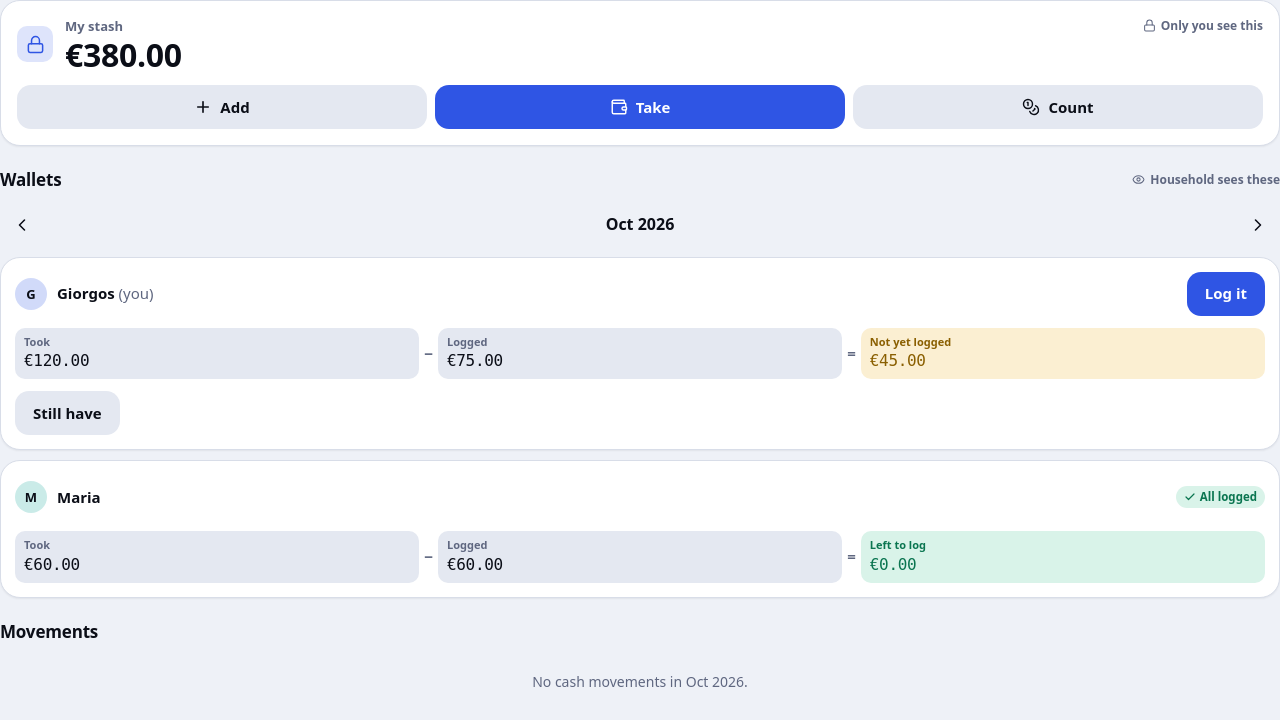
Test: a count that matches says so, and can still be saved
Click the button "Count": (1058, 107) [853,85,1263,129]
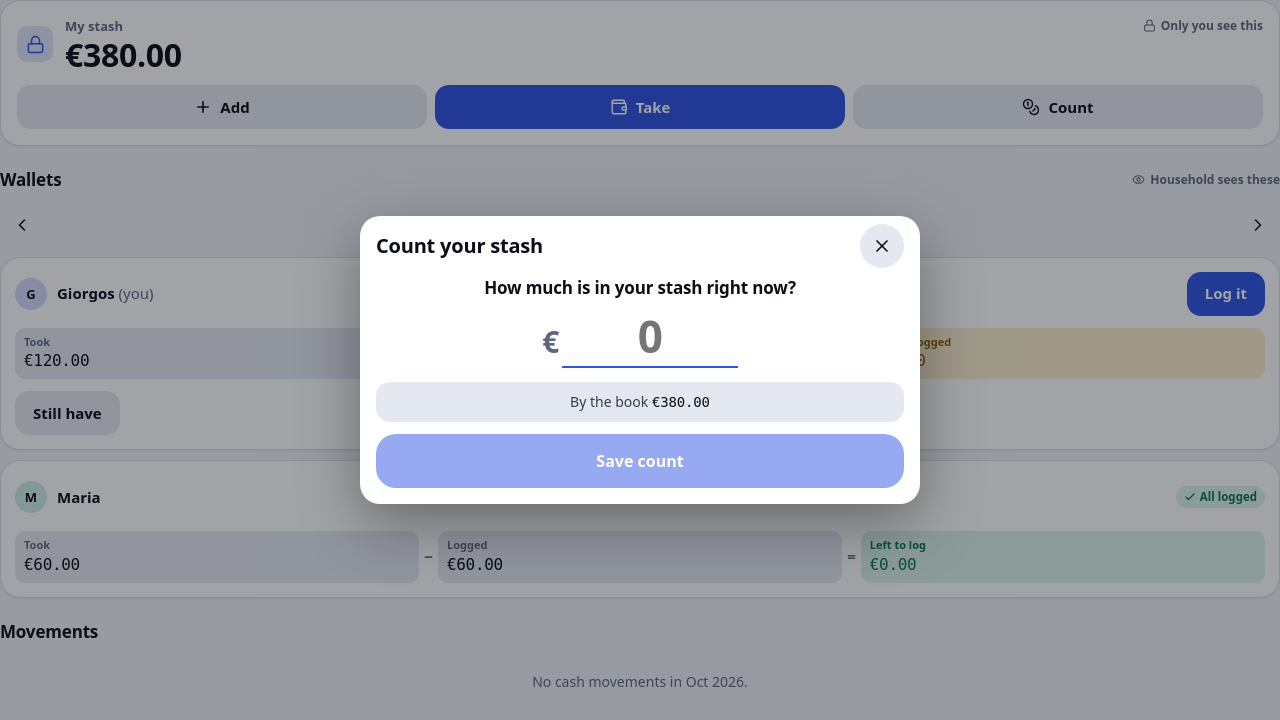
In the field named "Counted": (650, 337) [562,306,738,368], type "380"
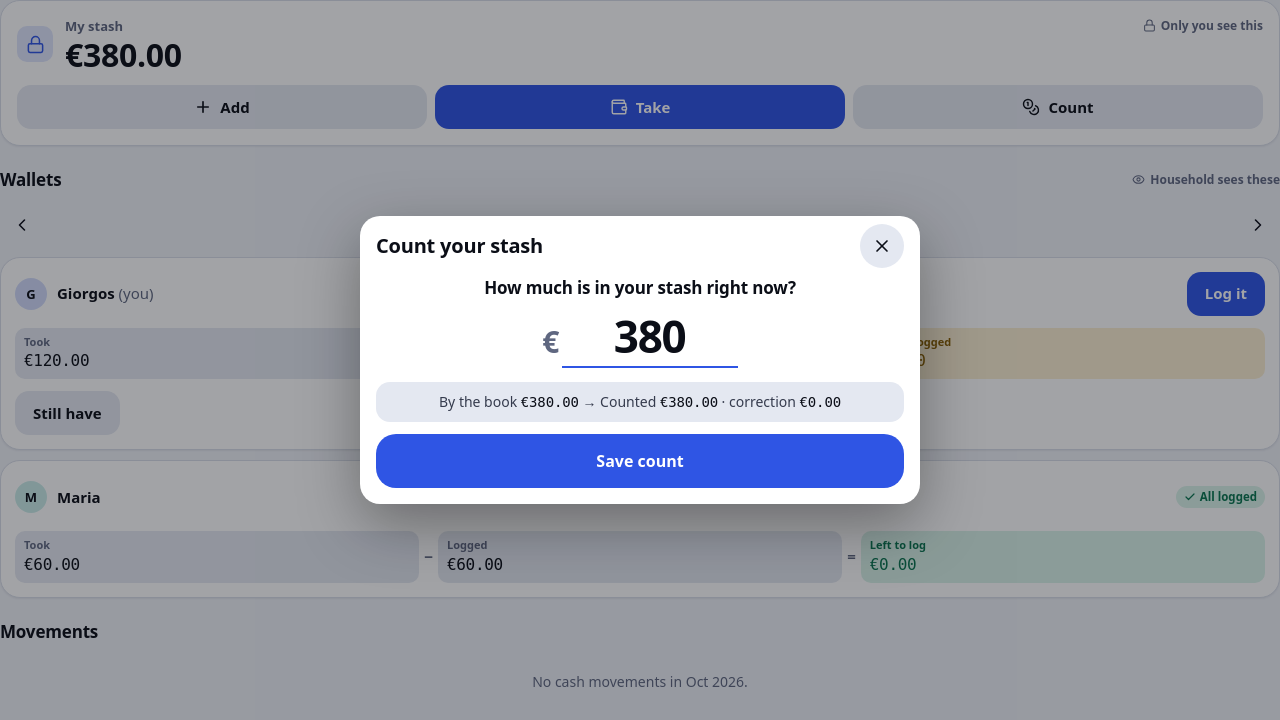
Expected: the element with test id "count-preview" shows "correction €0.00", [376,382,904,422]
Expected: the button "Save count" is enabled, [376,434,904,488]
Press Escape
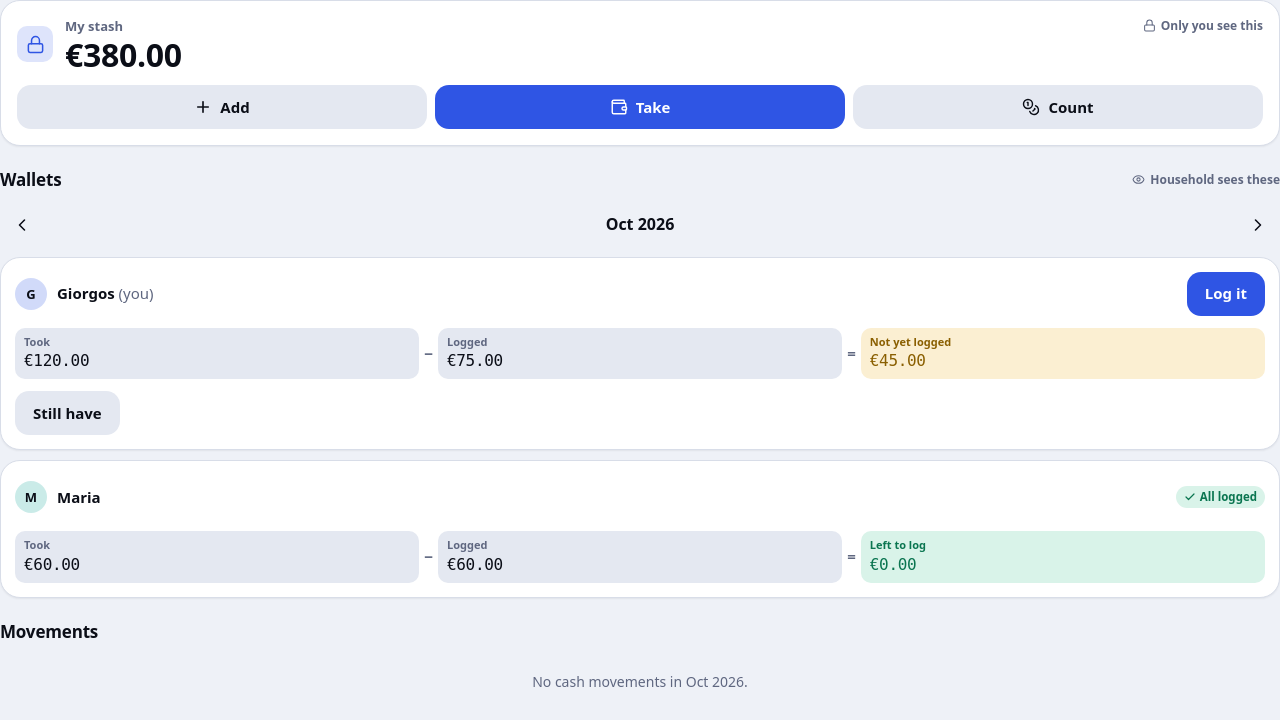
Expected: the dialog is gone
